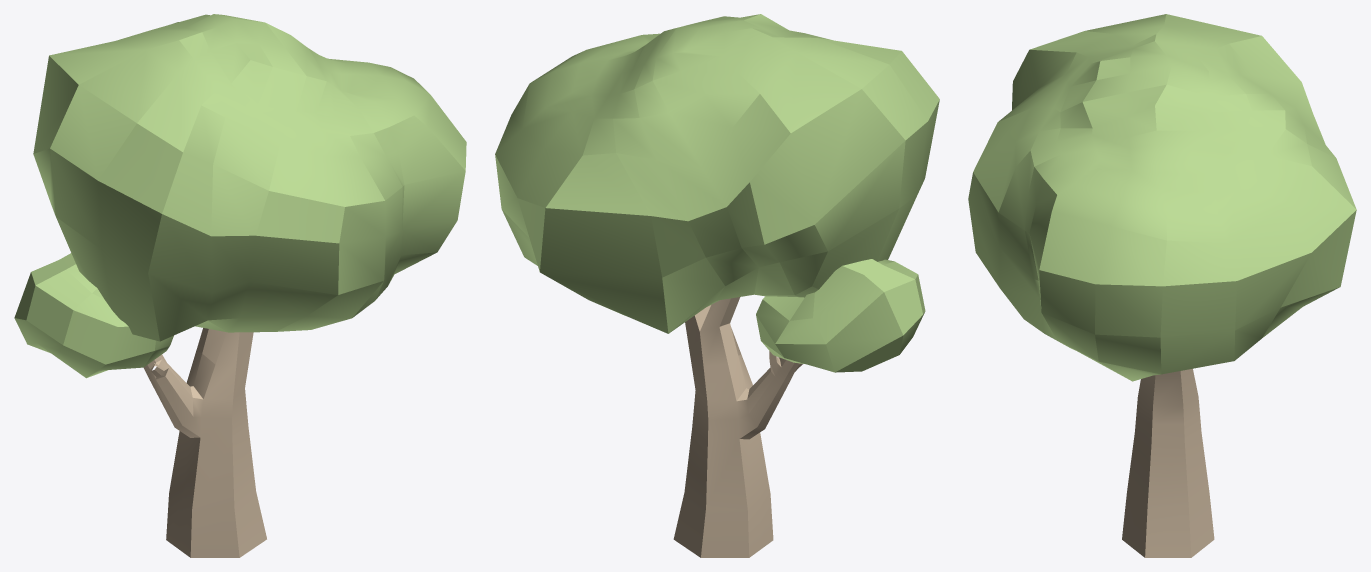
The model's file is pear-tree-transformed.glb.
3 views of the same model, side by side, from view 1: azimuth 30°, elevation 25°; view 2: azimuth 150°, elevation 25°; view 3: azimuth 270°, elevation 25° (orthographic). The views are drawn at different scales.
Visible parts, largest first — view 1: Cube 2.012, Cylinder.010, Cube 3.006; view 2: Cube 2.012, Cylinder.010, Cube 3.006; view 3: Cube 2.012, Cylinder.010.
Boxes of the visible parts, <box> form: Cube 2.012: <box>33,14,466,341</box>; Cylinder.010: <box>144,328,266,557</box>; Cube 3.006: <box>14,253,173,378</box>; Cube 2.012: <box>495,14,939,333</box>; Cylinder.010: <box>673,297,802,557</box>; Cube 3.006: <box>756,259,925,372</box>; Cube 2.012: <box>968,14,1356,381</box>; Cylinder.010: <box>1122,368,1214,557</box>.
Bounding box in the file's own units: 3.32 × 3.97 × 2.86.
